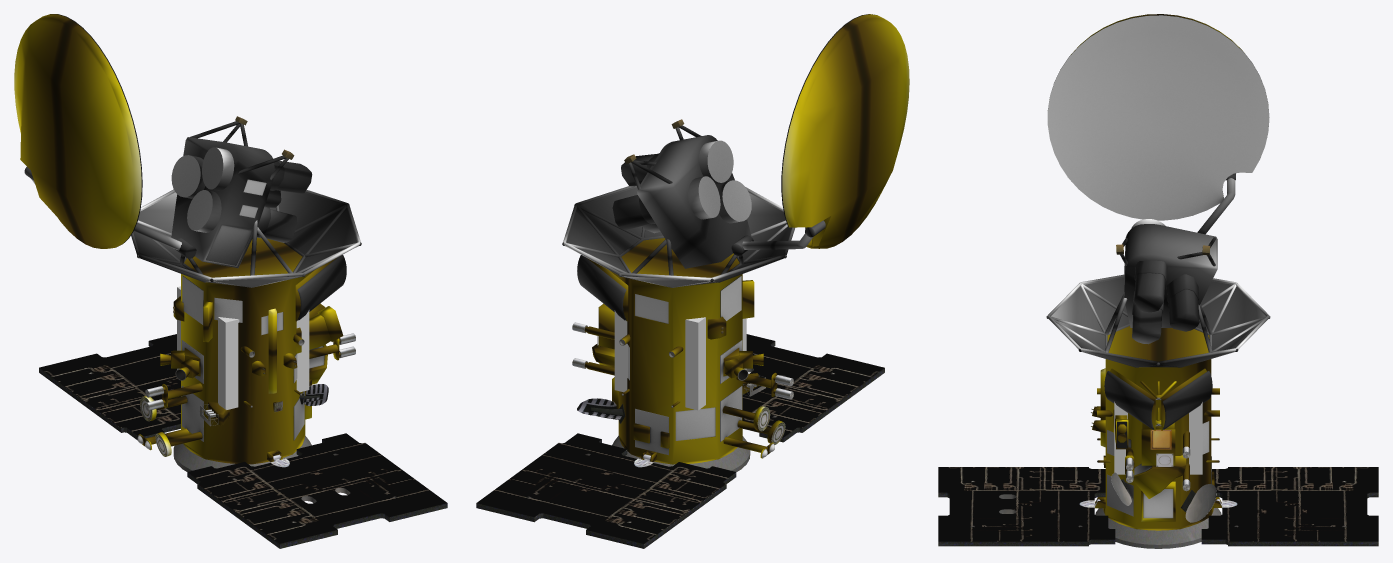
File: Aquarius (B) (unfurled).glb
3 views of the same model, side by side, from view 1: azimuth 30°, elevation 25°; view 2: azimuth 150°, elevation 25°; view 3: azimuth 270°, elevation 25° (orthographic). The views are drawn at different scales.
Parts seen in each view (by area): view 1: foil_gold, tex_02, foil_silver, AO_other_dep, tex_01, _root; view 2: foil_gold, tex_02, foil_silver, AO_other_dep, tex_01, _root; view 3: AO_dish_dep, tex_02, foil_silver, foil_gold, tex_01, AO_other_dep, _root.
Boxes of the visible parts, x1,y1,x2,y2 form: foil_gold: [14, 14, 343, 464]; tex_02: [39, 334, 446, 543]; foil_silver: [24, 121, 361, 320]; AO_other_dep: [137, 147, 324, 449]; tex_01: [39, 116, 447, 548]; _root: [177, 286, 309, 409]; foil_gold: [584, 14, 909, 464]; tex_02: [477, 334, 884, 543]; foil_silver: [562, 125, 825, 320]; AO_other_dep: [628, 140, 774, 457]; tex_01: [476, 119, 884, 548]; _root: [614, 310, 746, 410]; AO_dish_dep: [1047, 15, 1269, 220]; tex_02: [938, 467, 1378, 541]; foil_silver: [1046, 173, 1270, 429]; foil_gold: [1071, 14, 1242, 530]; tex_01: [938, 244, 1378, 548]; AO_other_dep: [1107, 421, 1211, 518]; _root: [1114, 401, 1202, 474].
Bounding box in the file's own units: 3.49 × 5.38 × 4.97.
9 materials, 9 textured.
